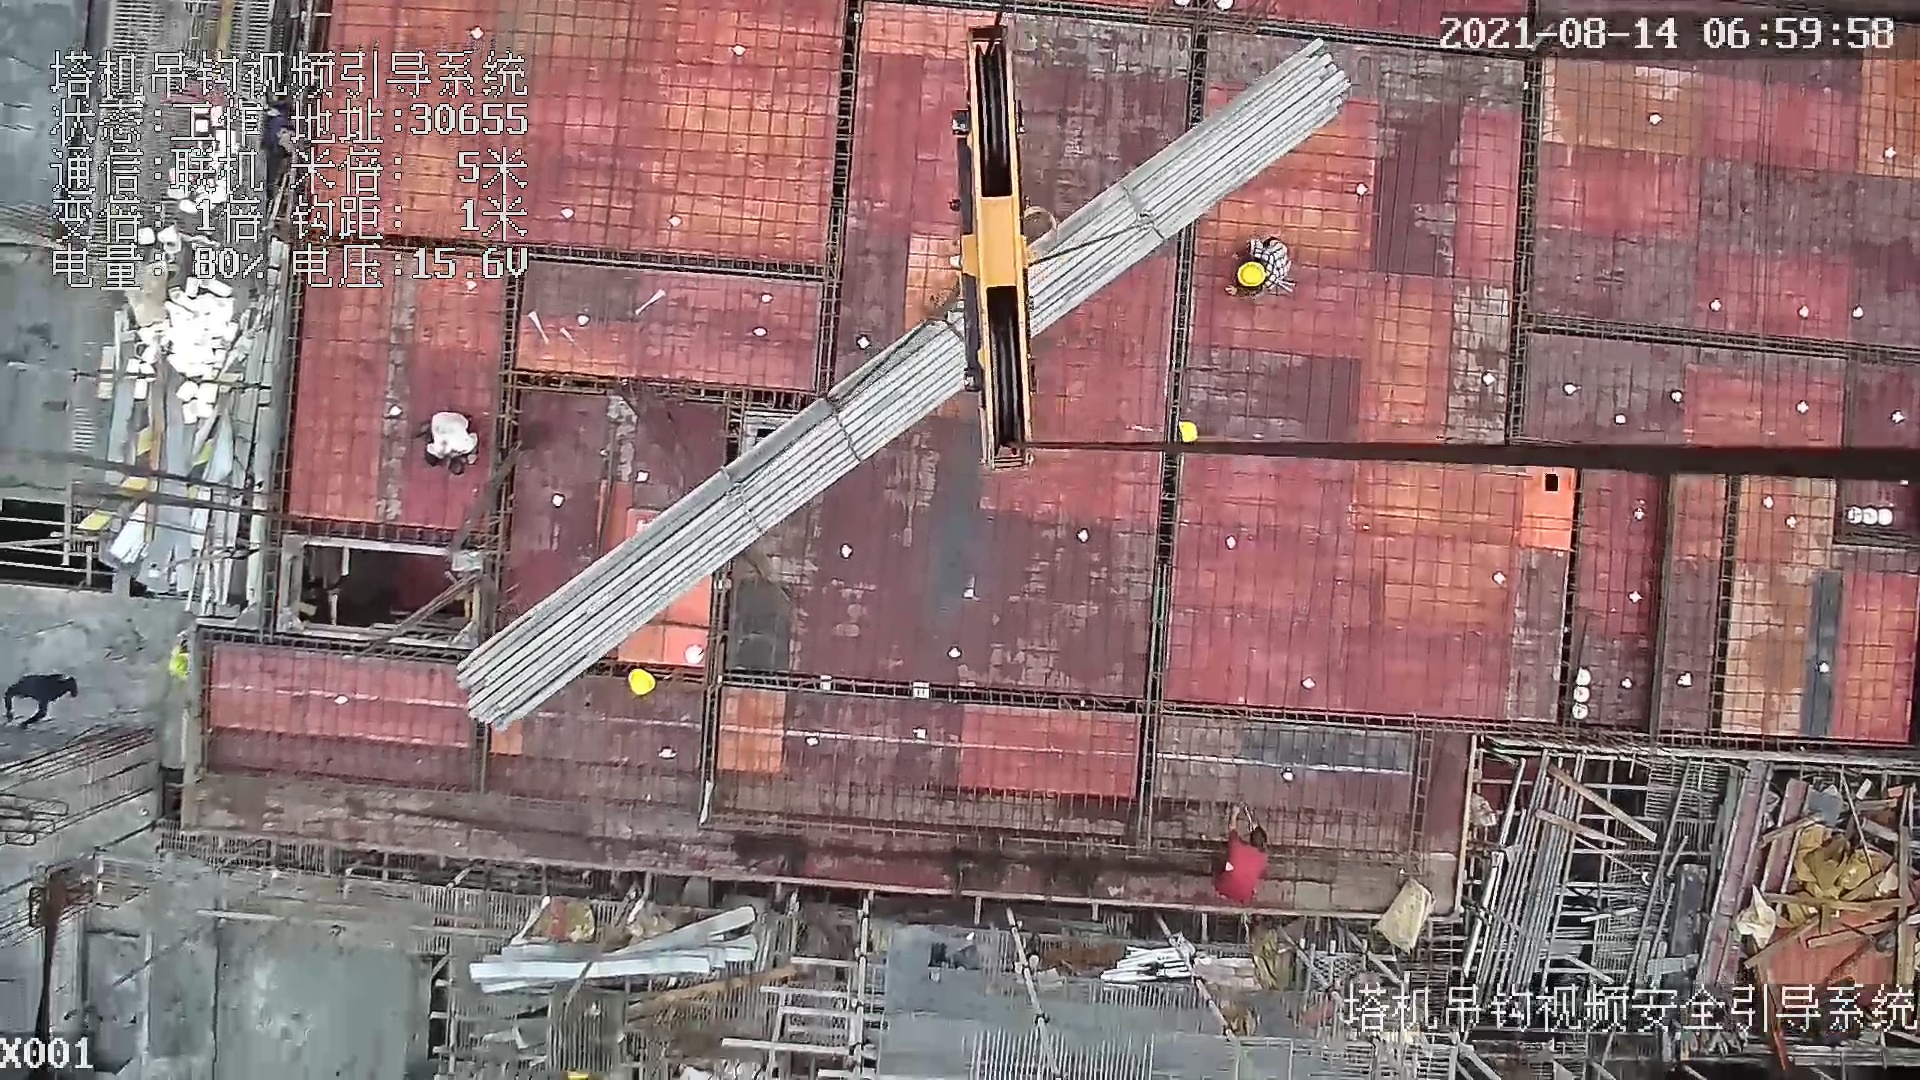helmet: (626, 668, 656, 695), (1237, 262, 1265, 286), (169, 653, 191, 675), (1177, 420, 1199, 443)
hook: (935, 23, 1077, 491)
person: (1209, 796, 1270, 903), (1232, 233, 1297, 305), (415, 408, 477, 474), (4, 675, 78, 727)
rebar: (458, 45, 1352, 735)
